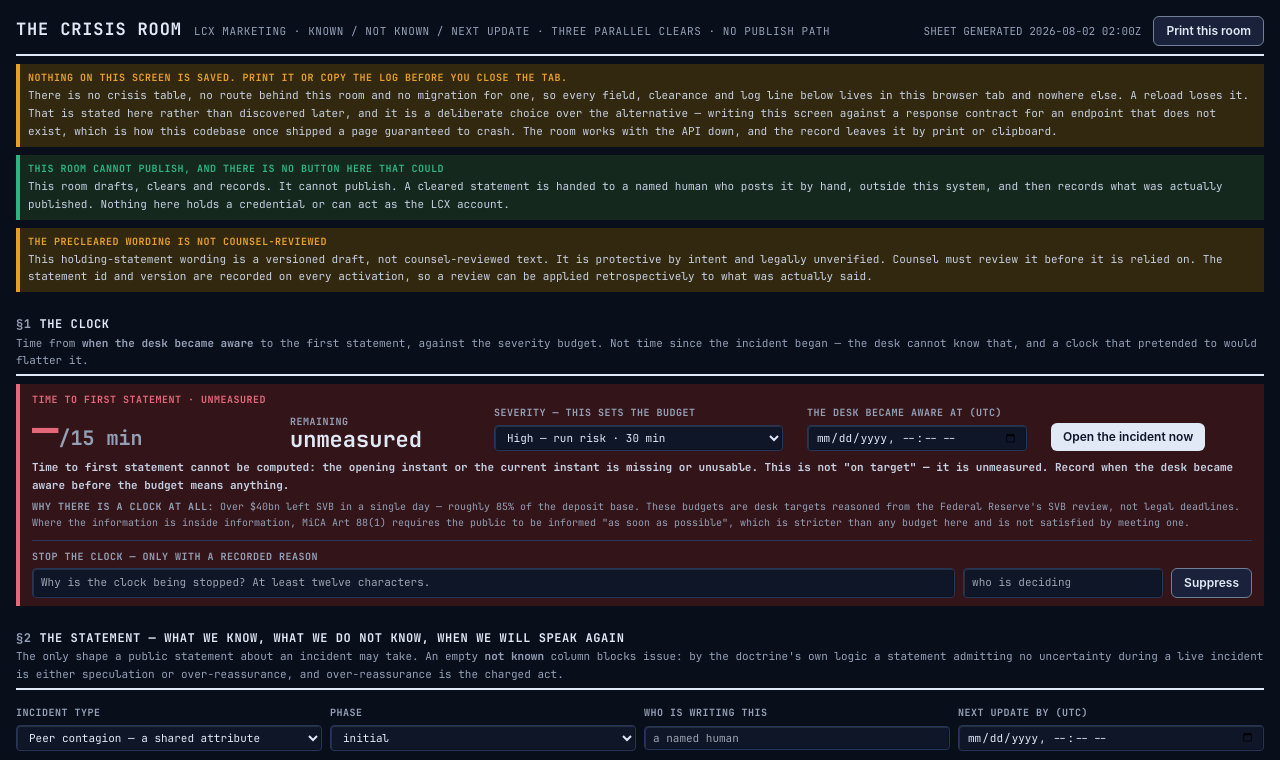
Test case: the clock › shows the budget for the severity that is selected
Step 1. Click the button "Open the incident now" → (1128, 437), box [1051,423,1205,451]
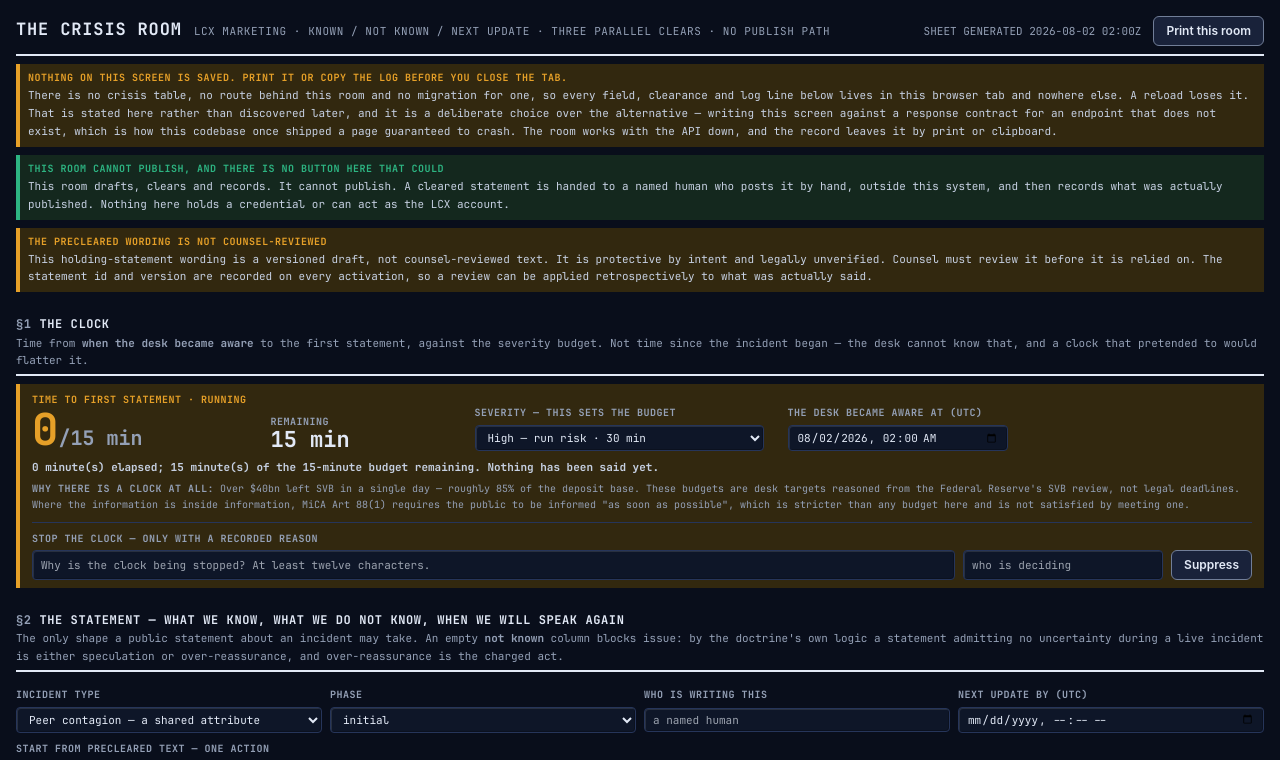
Step 2. Select "Low — contained · 480 min" in the dropdown named "Incident severity" → (619, 438), box [474,425,764,451]
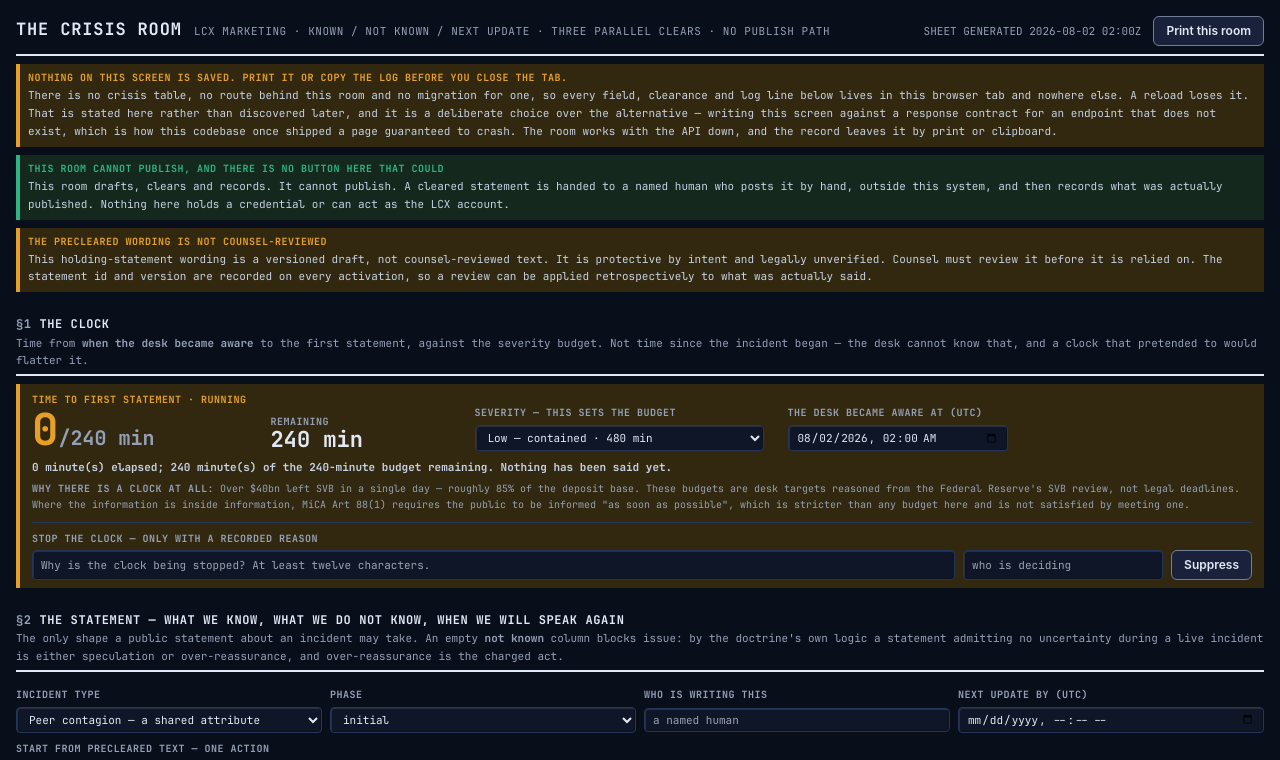
Now the element with test id "clock-elapsed" shows "240", box [70,425,106,451]
